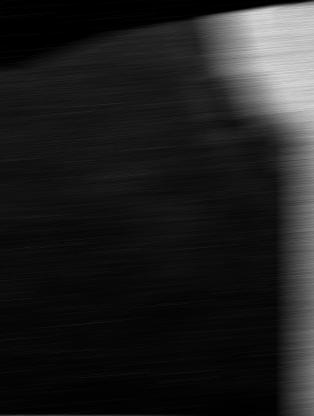Airbag: (0, 1, 314, 416), (298, 1, 314, 416)
